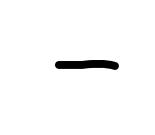minus: (55, 60, 120, 70)
